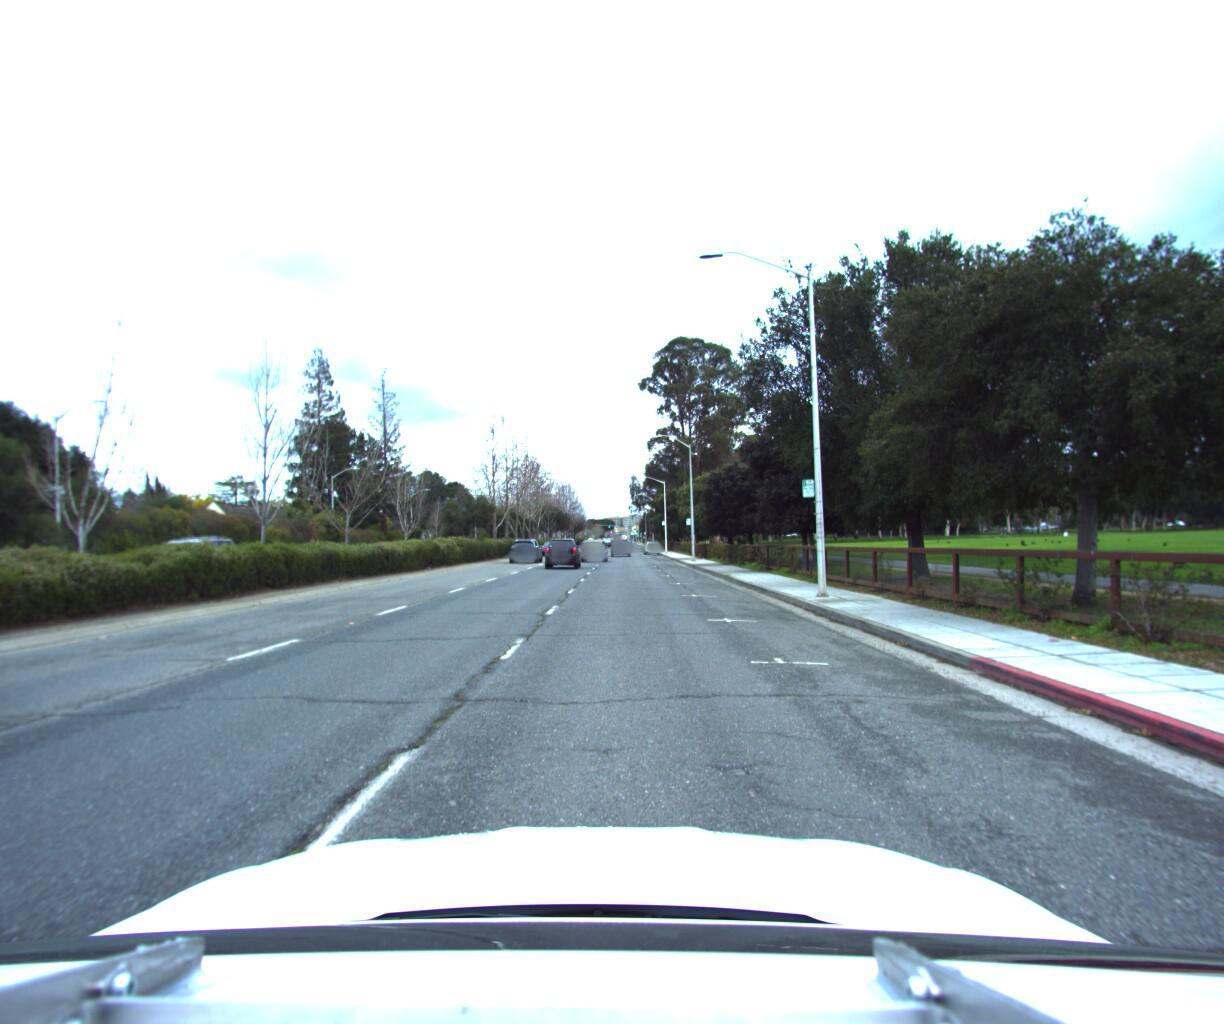car: (163, 535, 264, 576), (544, 541, 582, 575), (508, 544, 543, 571), (578, 546, 607, 569), (609, 544, 629, 563)
